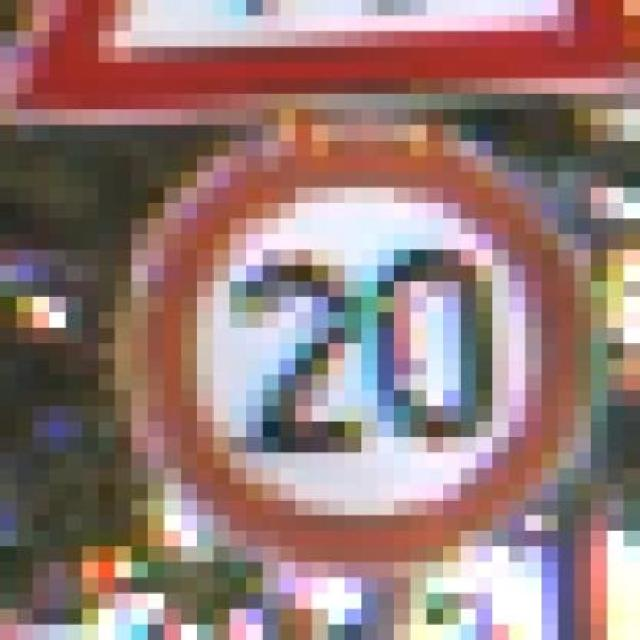forb_speed_over_20: (166, 150, 577, 556)
